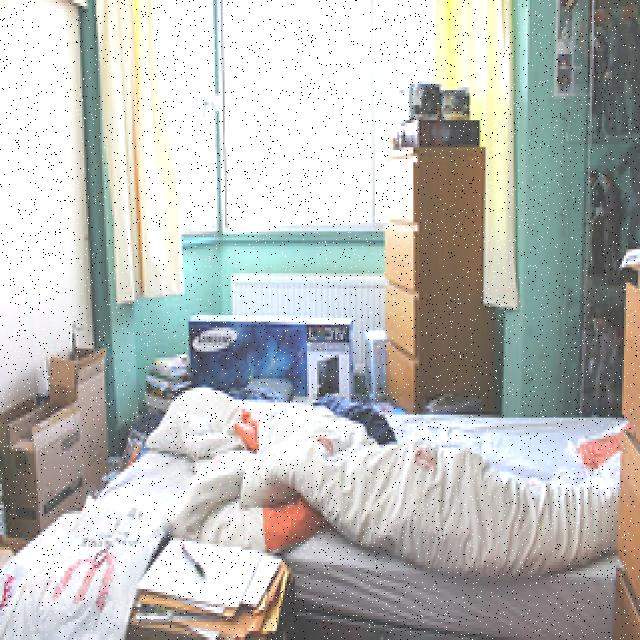bed: (54, 358, 640, 616)
